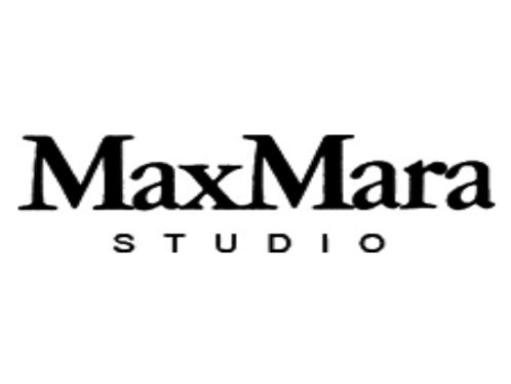MAX-MARA: (8, 131, 498, 212)
